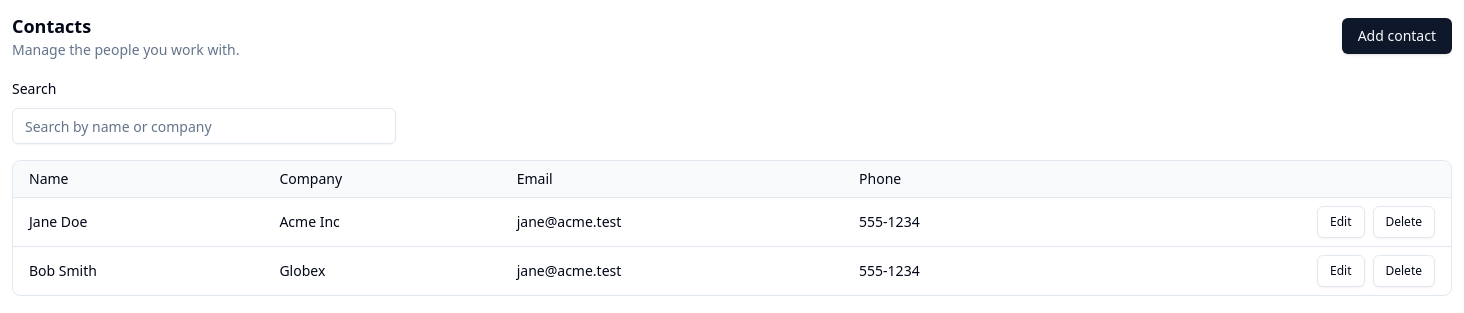
Test: ContactsPage › filters the list by search
This screenshot has width=1464, height=313.
Expected: the button "Jane Doe" is shown, 29,212 -> 88,232
Type "Globex" into the field labelled "Search".
click(204, 126); type("Globex")  # box 12,108 -> 396,144
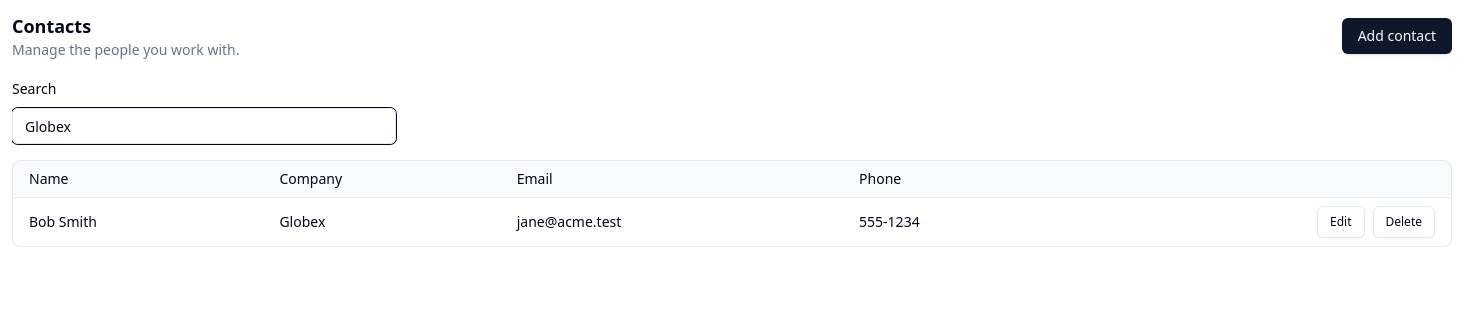
Expected: the button "Bob Smith" is shown, 29,212 -> 97,232
Expected: the button "Jane Doe" is gone
